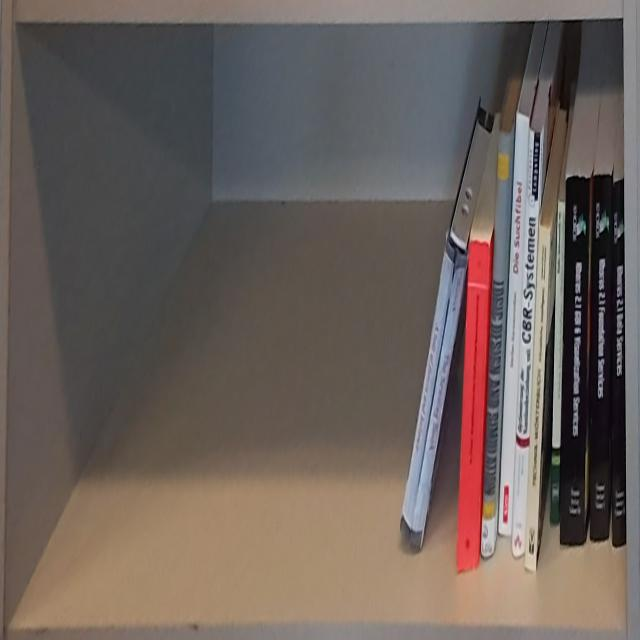Book Spine: (399, 237, 468, 550), (480, 131, 513, 559), (510, 126, 542, 560), (498, 113, 529, 537), (559, 175, 591, 548), (456, 241, 491, 571), (524, 225, 551, 576), (590, 174, 612, 543), (550, 202, 565, 528), (613, 178, 626, 549)
